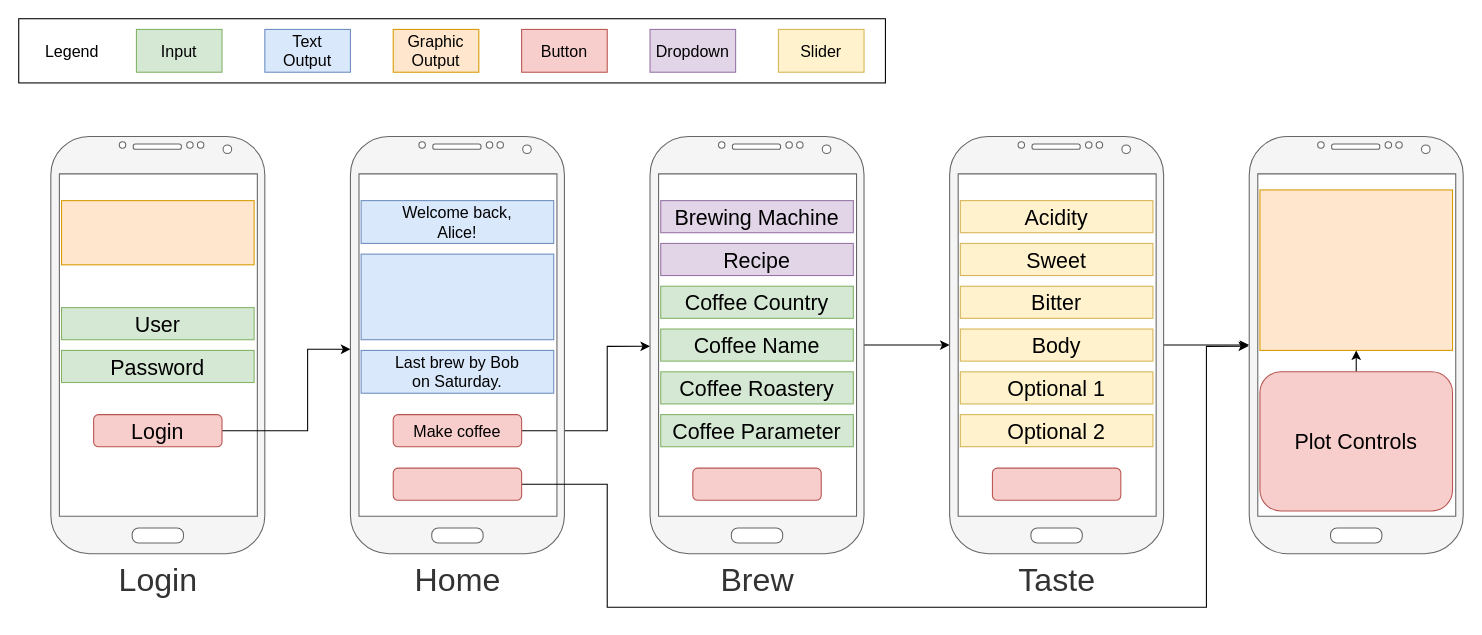
Image size: 1482x635. Some labels were removed from this diagram. The box of each missing label's shape, as (x1, y1, x2, y2) in pixels:
Database: (1248, 135, 1463, 554)
Finish: (991, 467, 1121, 500)
Let's taste!: (692, 467, 821, 500)
Neat Logo: (60, 200, 254, 265)
Nice plot showing coffee taste profile: (1259, 189, 1453, 350)
Our user brewed 123 cups made from 456 g of coffee and 789 liters of water.: (360, 253, 554, 340)
View database: (392, 467, 522, 500)
